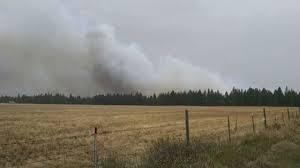yanwu: (0, 0, 228, 95)
